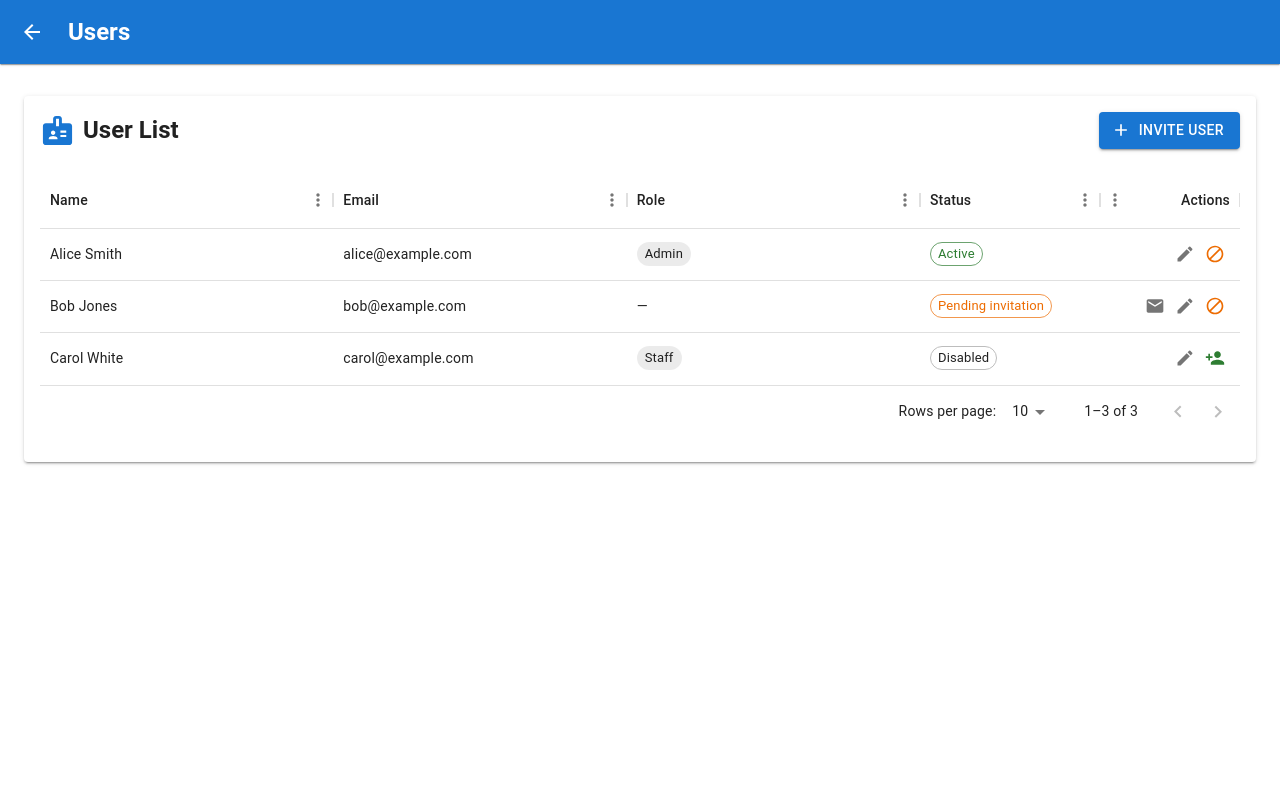
Test: UsersPage › Invite User Dialog › closes dialog after successful invite
The width and height of the screenshot is (1280, 800).
Click the button "Invite User".
click(1169, 130)  # box x1=1099 y1=112 x2=1240 y2=148
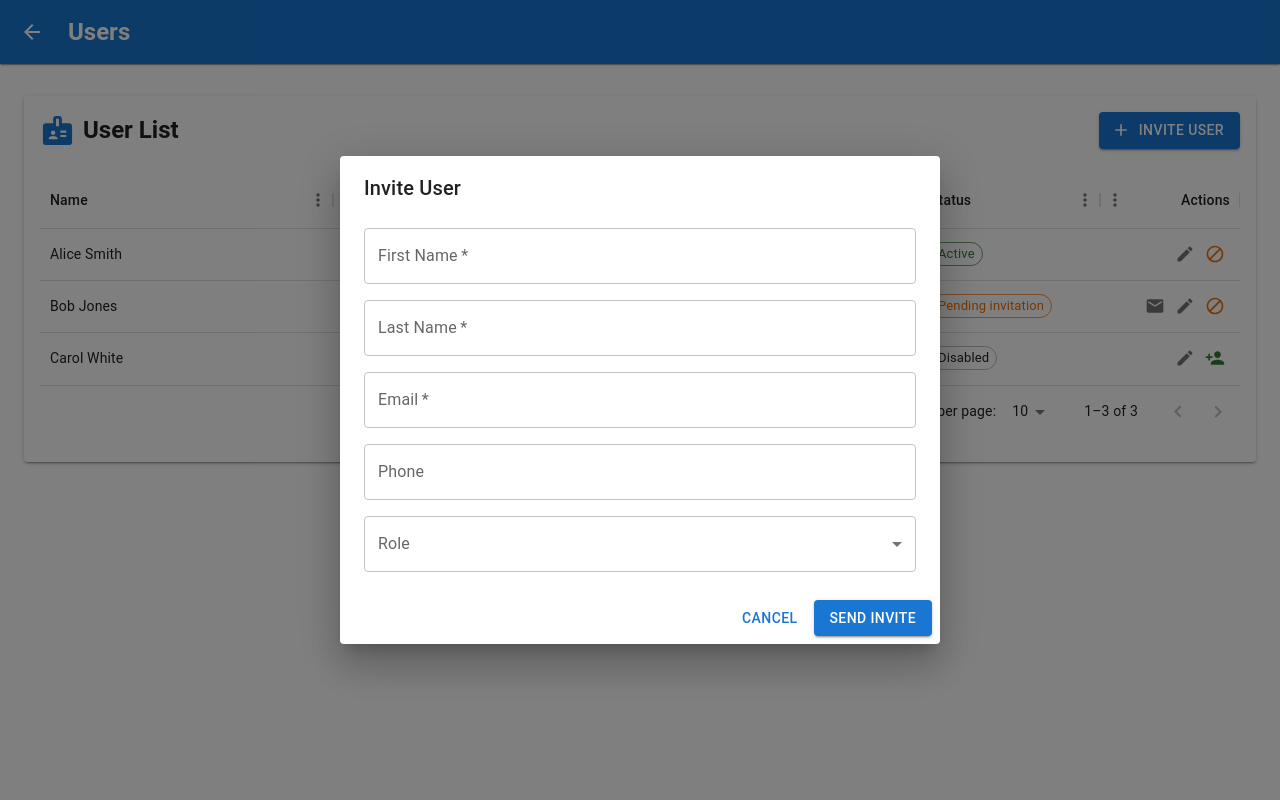
Check: the dialog is shown, box x1=340 y1=156 x2=940 y2=644
Type "Dave" into the field labelled "First Name *".
click(640, 256); type("Dave")  # box x1=364 y1=228 x2=916 y2=284
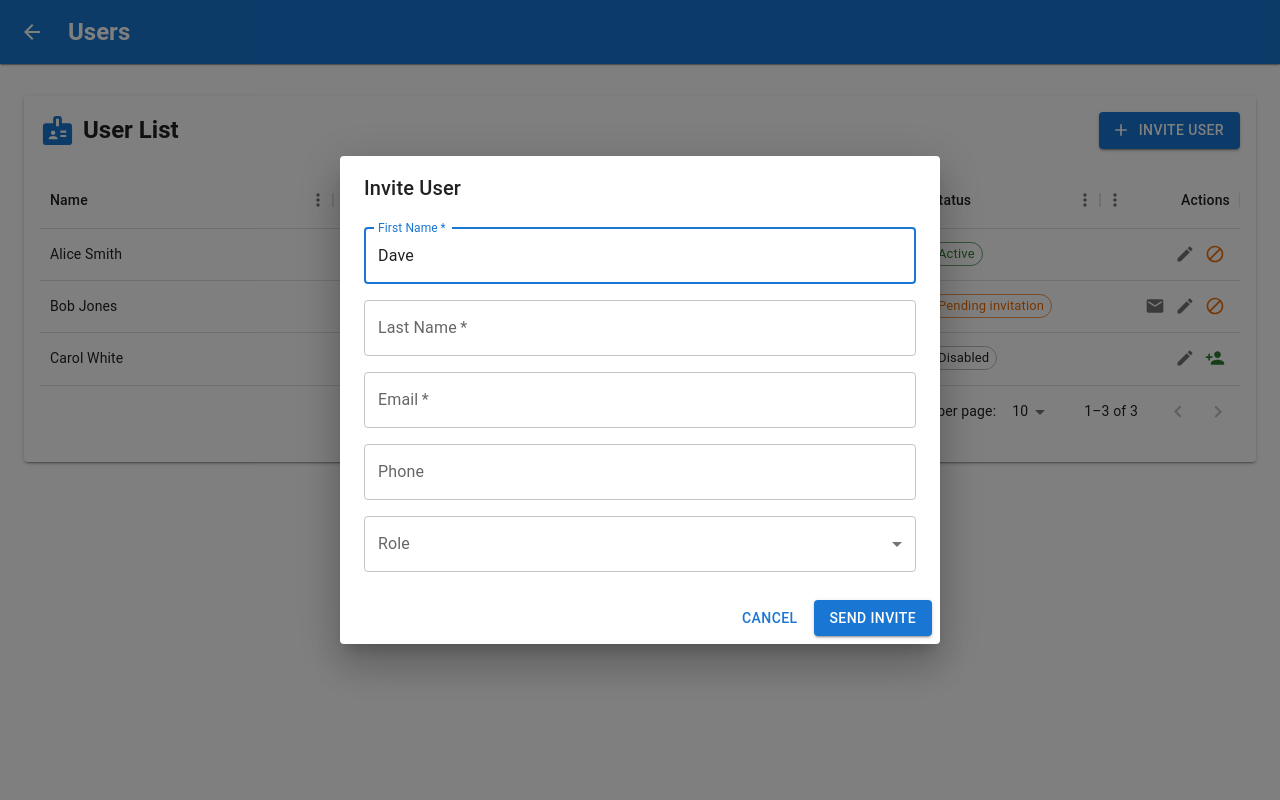
Type "Brown" into the field labelled "Last Name *".
click(640, 328); type("Brown")  # box x1=364 y1=300 x2=916 y2=356
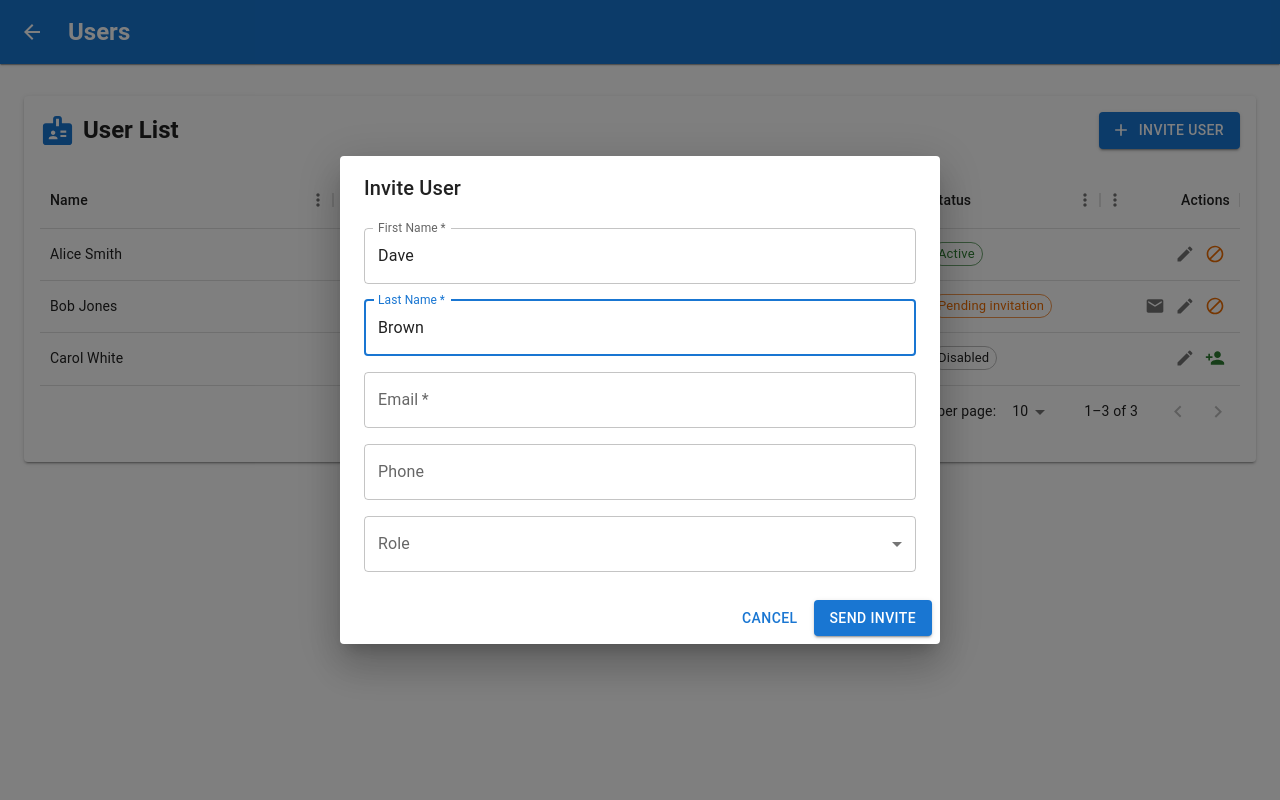
Type "dave@example.com" into the field labelled "Email *".
click(640, 400); type("dave@example.com")  # box x1=364 y1=372 x2=916 y2=428
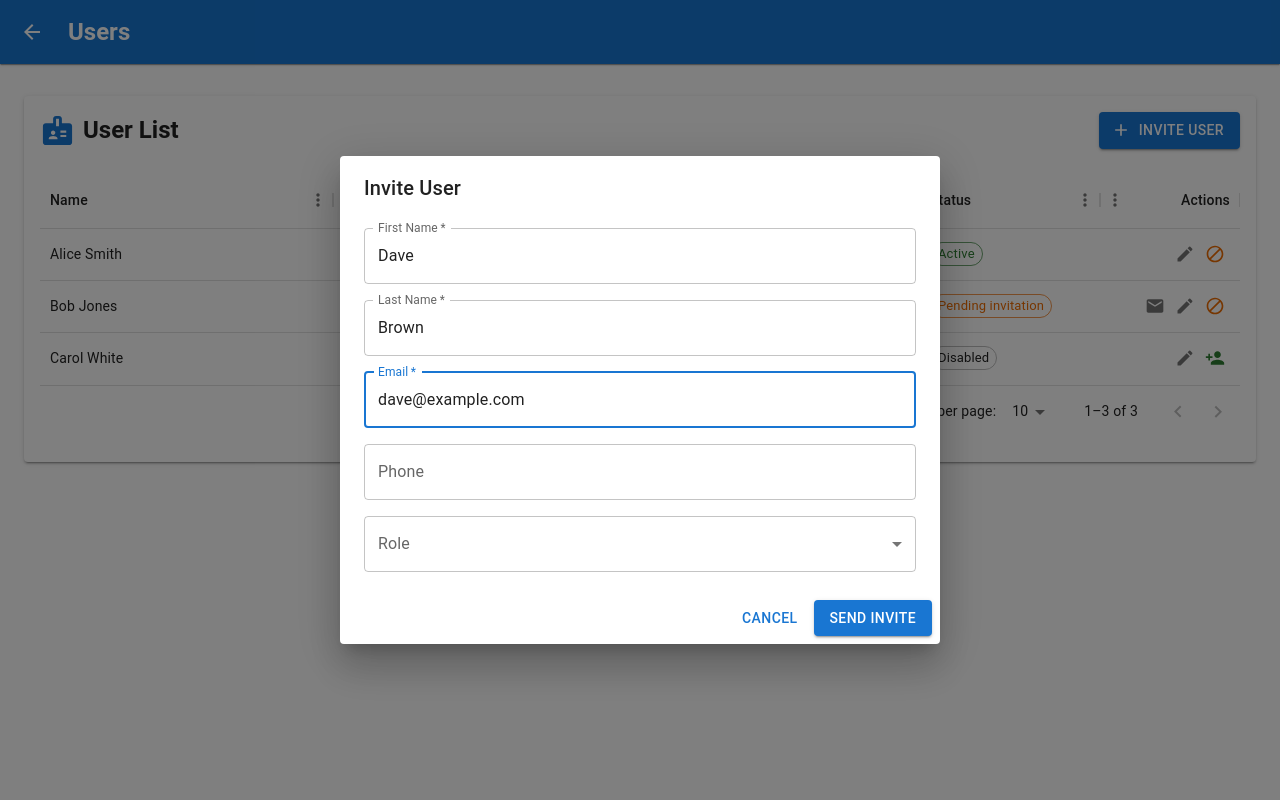
Click the button "Send Invite".
click(873, 618)  # box x1=814 y1=600 x2=932 y2=636
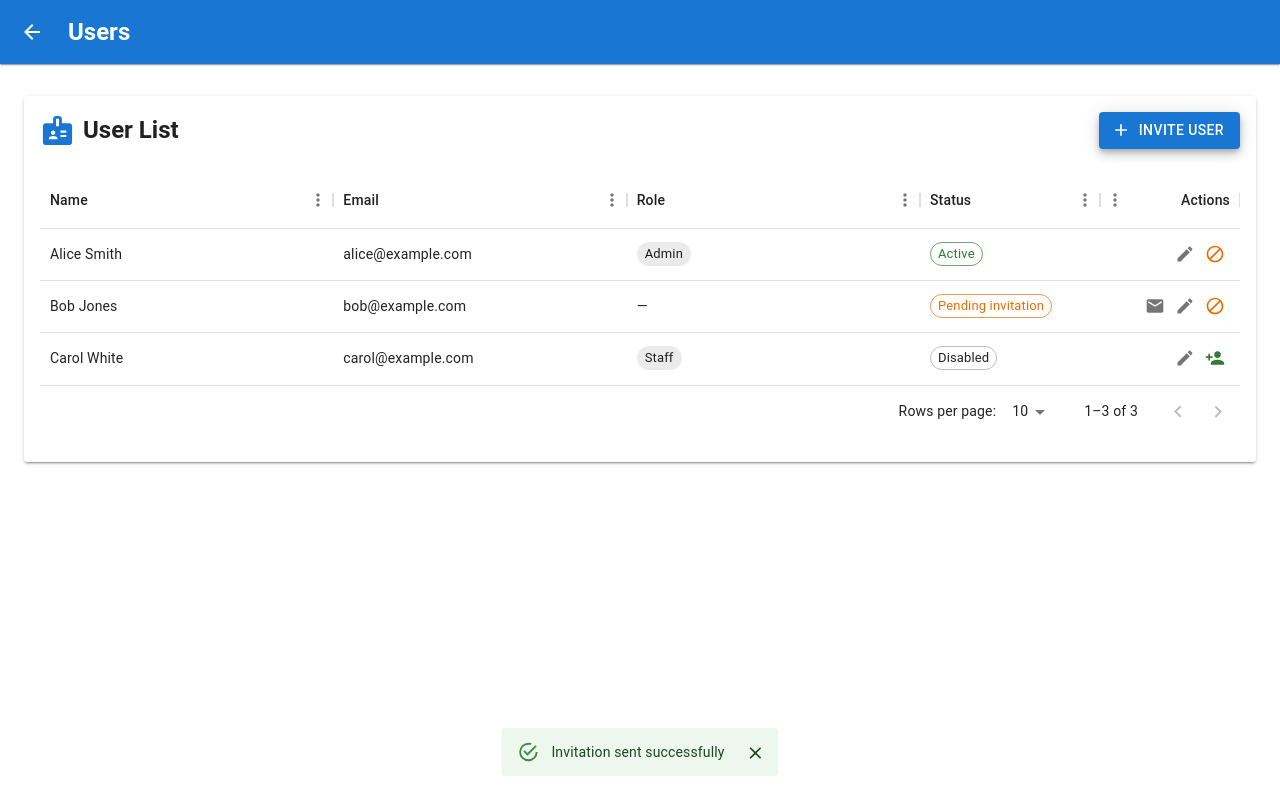
Check: the dialog is gone
